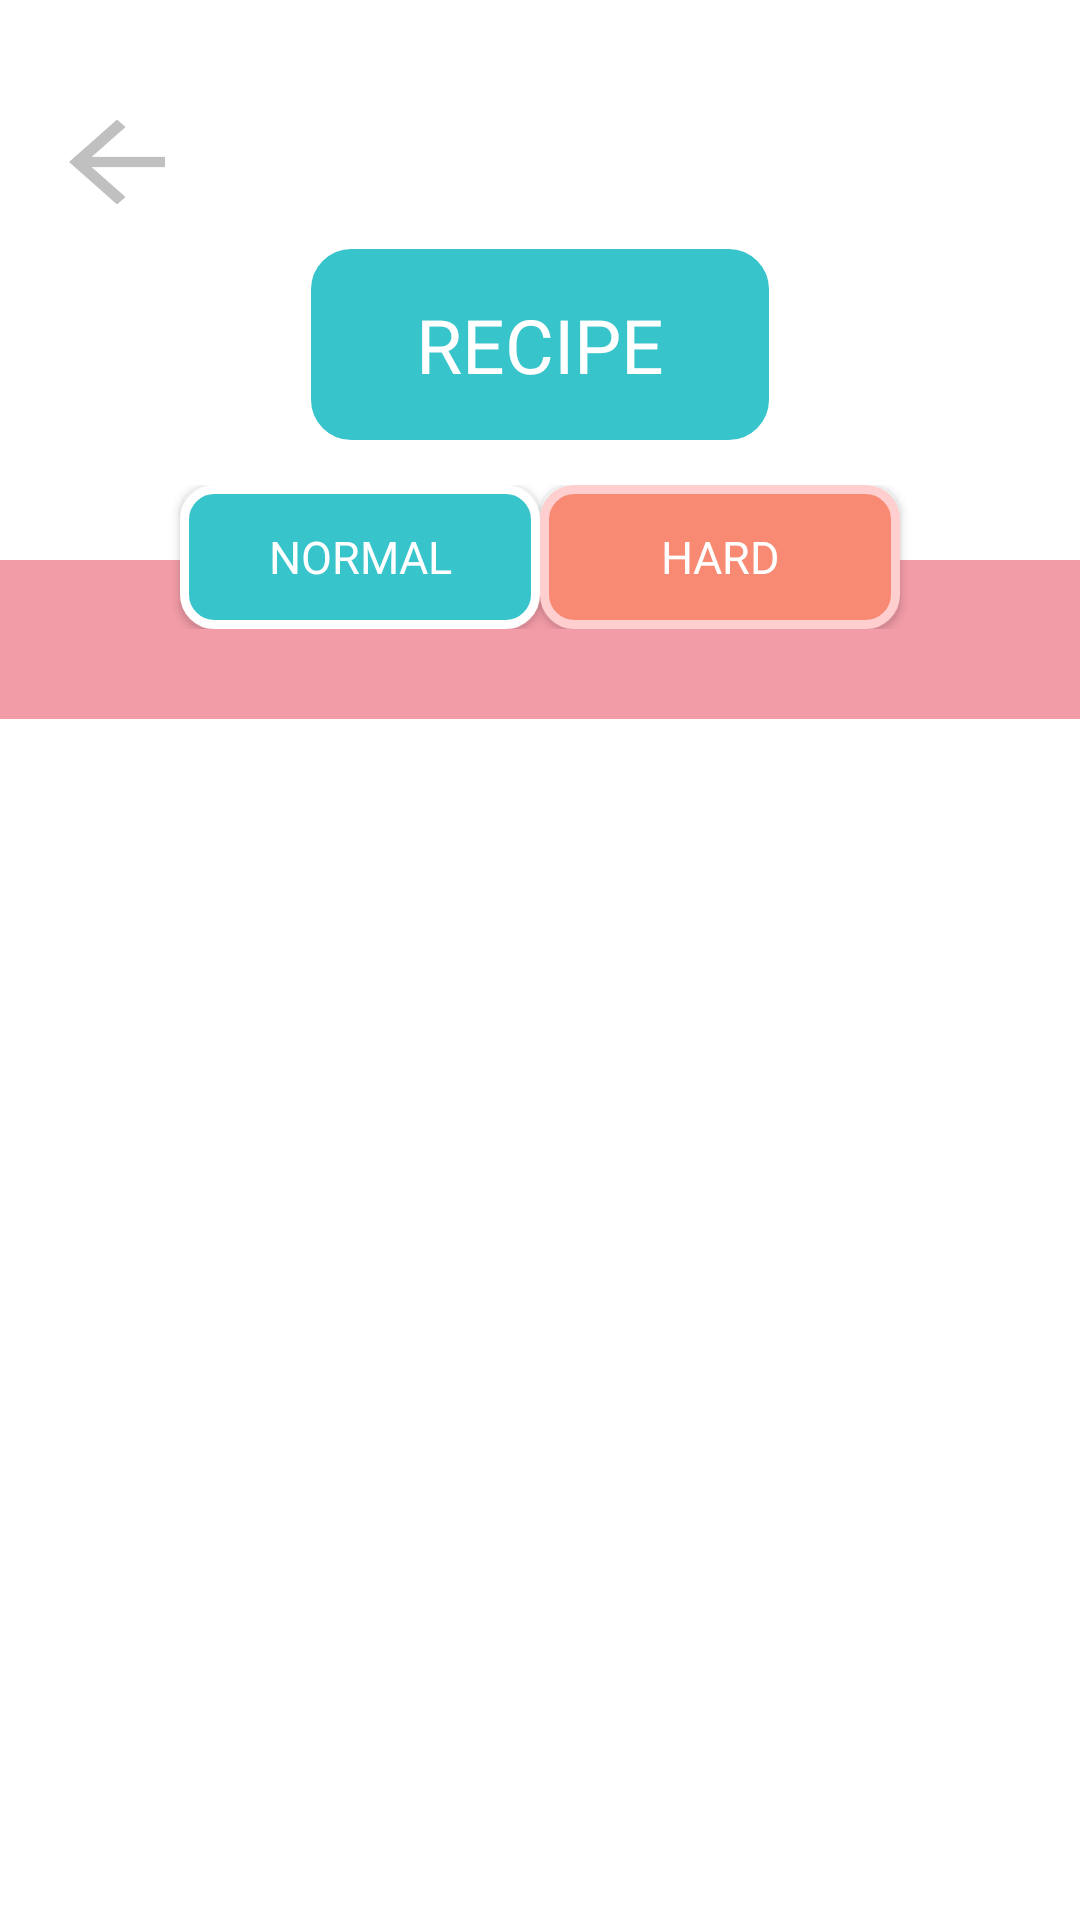

Screen size 1080w x 1920h. Icon name, then its box in pixels as [left=x1, top=y1, right=x2, bottom=y2]:
back: [left=69, top=120, right=165, bottom=204]
